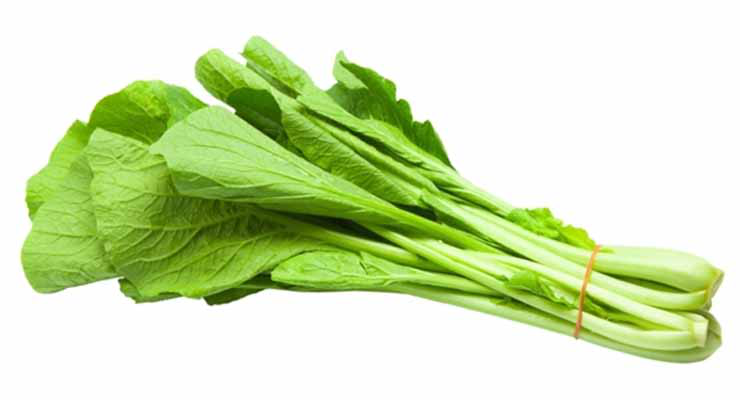Sawi: (17, 29, 654, 371)
